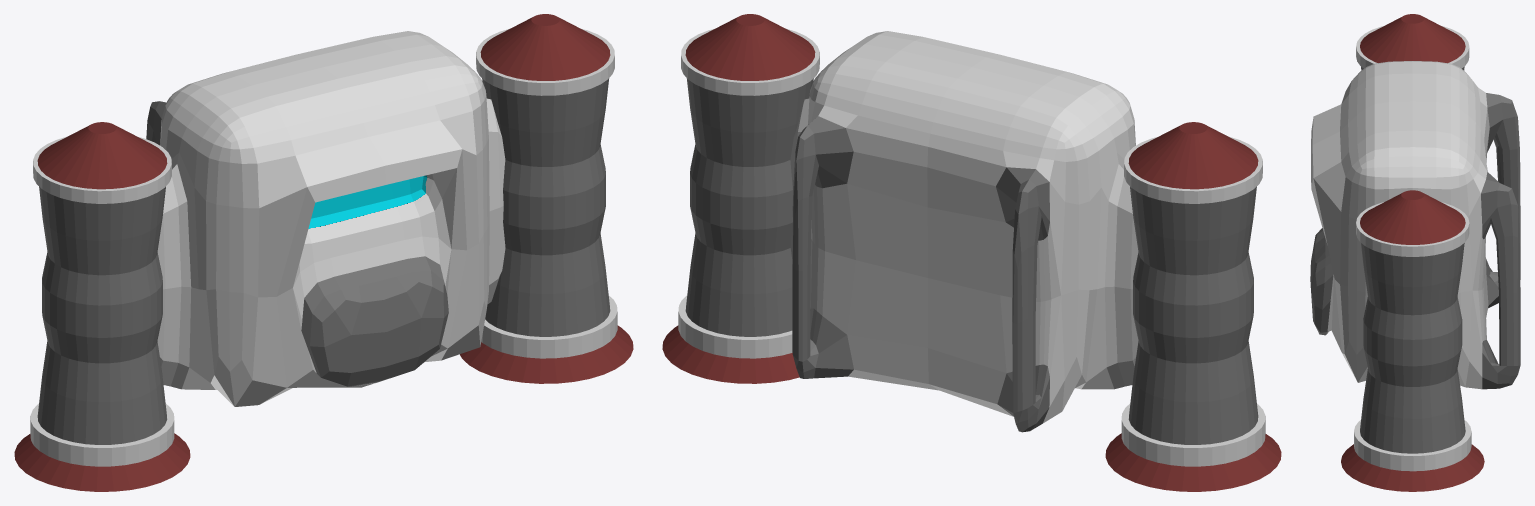
File: jetpack.fbx
3 views of the same model, side by side, from view 1: azimuth 30°, elevation 25°; view 2: azimuth 150°, elevation 25°; view 3: azimuth 270°, elevation 25° (orthographic). The views are drawn at different scales.
Visible parts, largest first — view 1: Cube.007, Cylinder; view 2: Cube.007, Cylinder; view 3: Cube.007, Cylinder.
Part boxes in pixels (left/top/right/bottom): Cube.007: left=146, top=31, right=505, bottom=406; Cylinder: left=14, top=14, right=633, bottom=491; Cube.007: left=790, top=31, right=1138, bottom=432; Cylinder: left=662, top=14, right=1281, bottom=491; Cube.007: left=1310, top=61, right=1520, bottom=389; Cylinder: left=1341, top=14, right=1484, bottom=491.
Bounding box in the file's own units: 408 × 218 × 153.
Materials: 2 (2 with a texture image).
